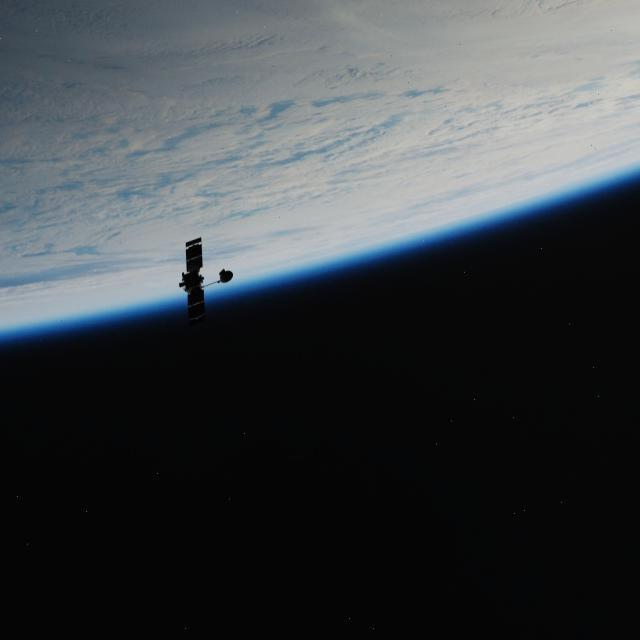satellite: (174, 235, 224, 367)
